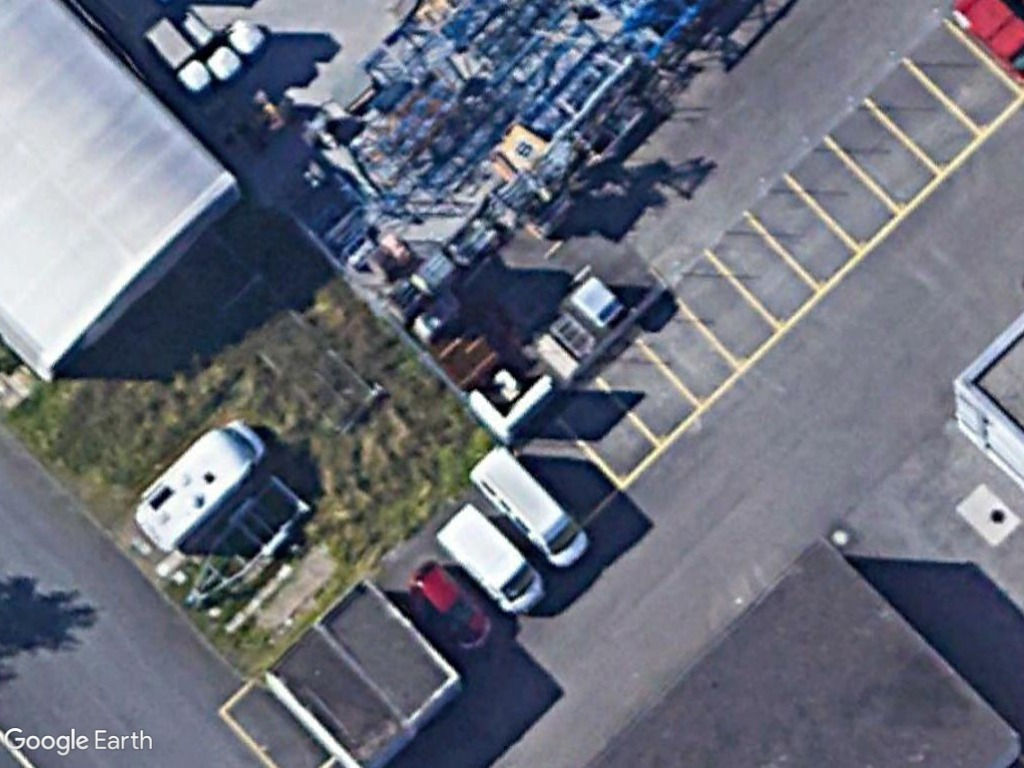car: (407, 564, 498, 654)
van: (463, 449, 592, 572), (434, 506, 551, 617)
